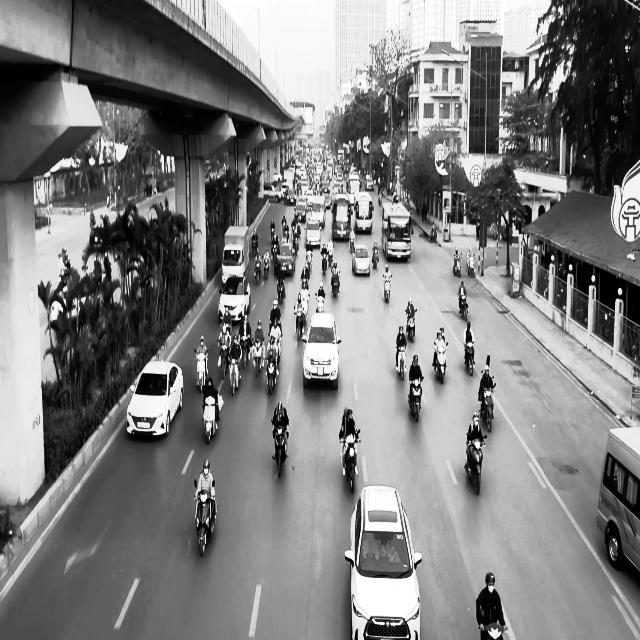bus: (382, 202, 412, 261), (221, 224, 250, 284)
car: (344, 485, 423, 639), (126, 359, 184, 438), (302, 312, 342, 390), (218, 276, 251, 322), (352, 244, 370, 276)
motorbike: (194, 479, 217, 556), (340, 429, 361, 493), (464, 434, 486, 495), (272, 424, 289, 479), (202, 394, 220, 445), (481, 382, 496, 432), (408, 375, 424, 421), (434, 342, 448, 384), (396, 342, 407, 380), (464, 341, 475, 376), (407, 309, 418, 342), (458, 295, 468, 320), (384, 274, 392, 303), (430, 225, 437, 243)
